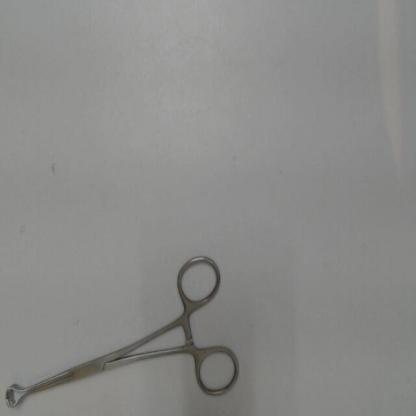Babcock Tissue Forceps: (3, 249, 243, 412)
